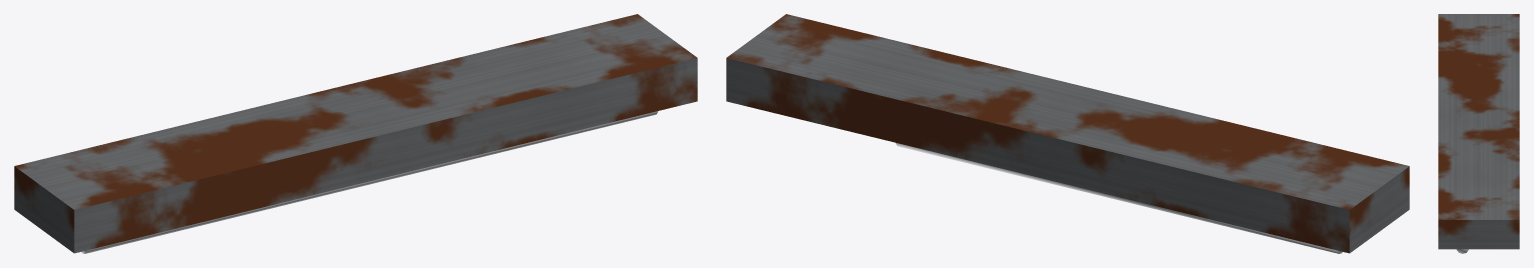
File: SM_LampFixture.fbx
3 views of the same model, side by side, from view 1: azimuth 30°, elevation 25°; view 2: azimuth 150°, elevation 25°; view 3: azimuth 270°, elevation 25° (orthographic). The views are drawn at different scales.
Parts seen in each view (by area): view 1: SM_LampFixture; view 2: SM_LampFixture; view 3: SM_LampFixture.
Boxes of the visible parts, x1,y1,x2,y2 form: SM_LampFixture: [14, 14, 697, 253]; SM_LampFixture: [726, 14, 1409, 253]; SM_LampFixture: [1438, 14, 1519, 253].
Bounding box in the file's own units: 1.2 × 0.116 × 0.2.
Materials: 2 (1 with a texture image).
